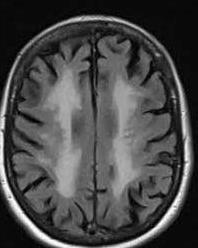Normal_Brain: (1, 1, 196, 248)
